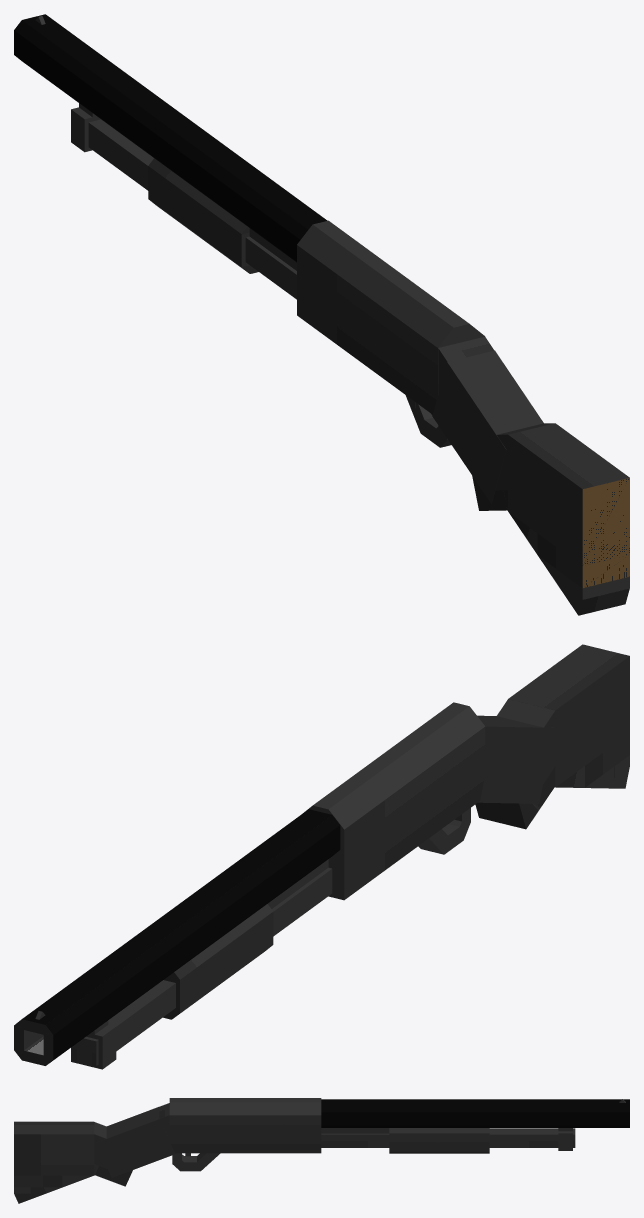
File: mteg_remington_870.glb
The picture shows the model from 3 angles, top to bottom: view 1: azimuth 30°, elevation 25°; view 2: azimuth 150°, elevation 25°; view 3: azimuth 270°, elevation 25°; orthographic projection. The views are drawn at different scales.
Visible parts, largest first — view 1: Gun; view 2: Gun; view 3: Gun.
Boxes of the visible parts, <box> form: Gun: <box>14,14,629,615</box>; Gun: <box>14,644,629,1069</box>; Gun: <box>14,1098,629,1203</box>.
Bounding box in the file's own units: 0.0756 × 0.2768 × 1.57.
1 material, 1 textured.
